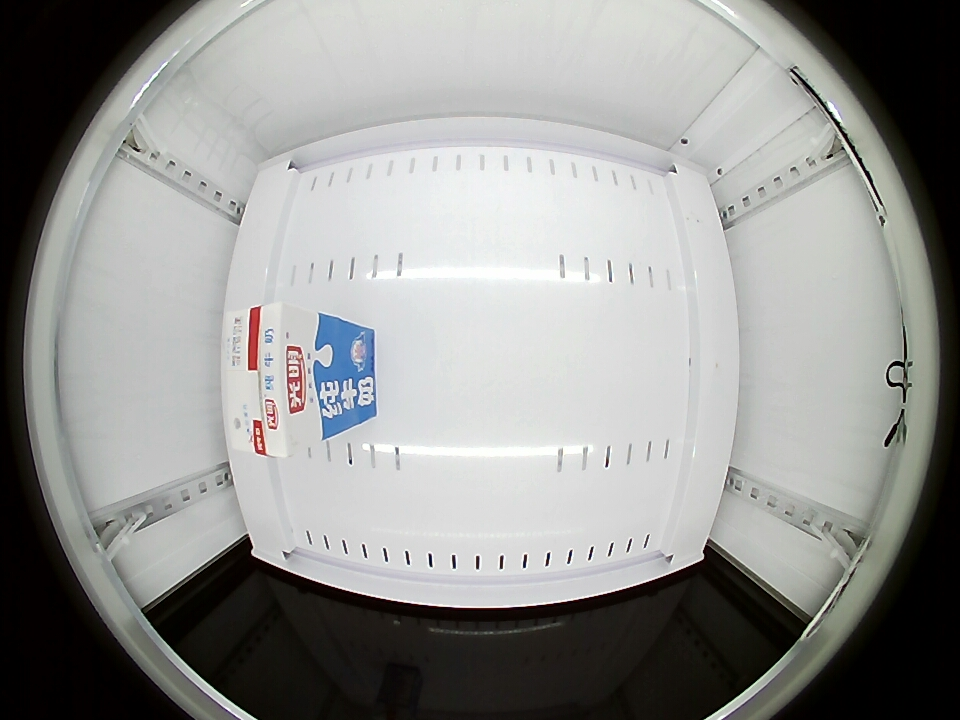niunai: (226, 303, 336, 458)
